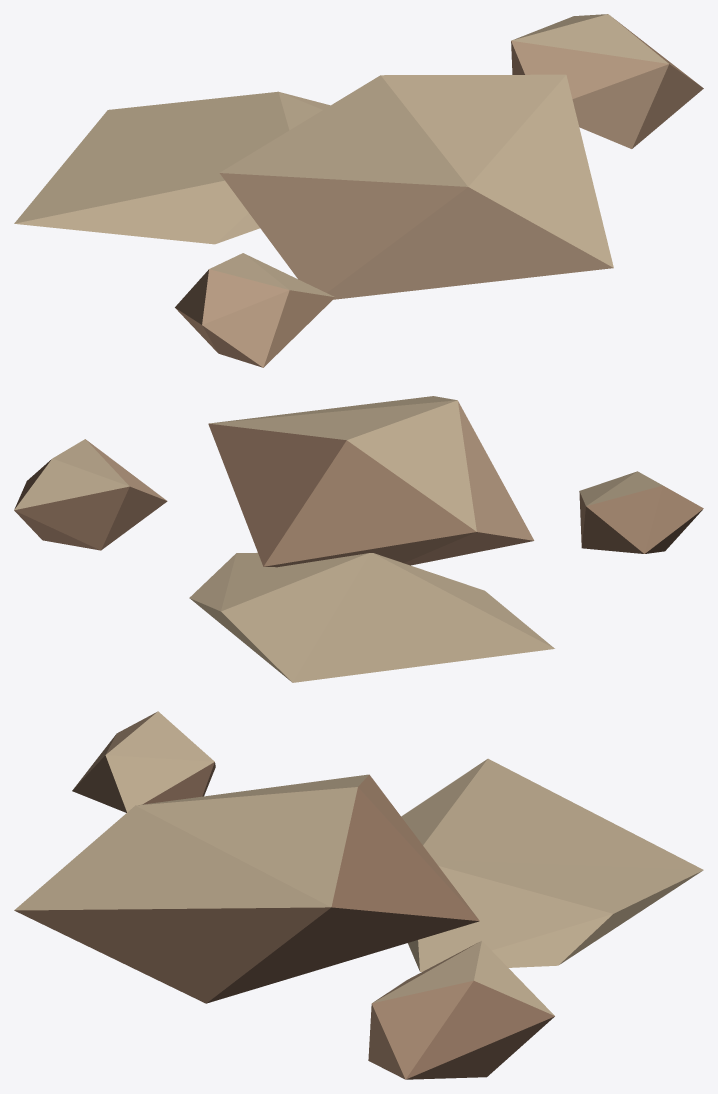
The model's file is prop_desert_pebbles_1.glb.
The picture shows the model from 3 angles, top to bottom: view 1: azimuth 30°, elevation 25°; view 2: azimuth 150°, elevation 25°; view 3: azimuth 270°, elevation 25°; orthographic projection. The views are drawn at different scales.
Parts seen in each view (by area): view 1: Body; view 2: Body; view 3: Body.
Boxes of the visible parts, bbox=[...] form: Body: bbox=[14, 14, 703, 367]; Body: bbox=[14, 396, 703, 682]; Body: bbox=[14, 711, 703, 1079].
Bounding box in the file's own units: 0.8003 × 0.1651 × 0.713.
